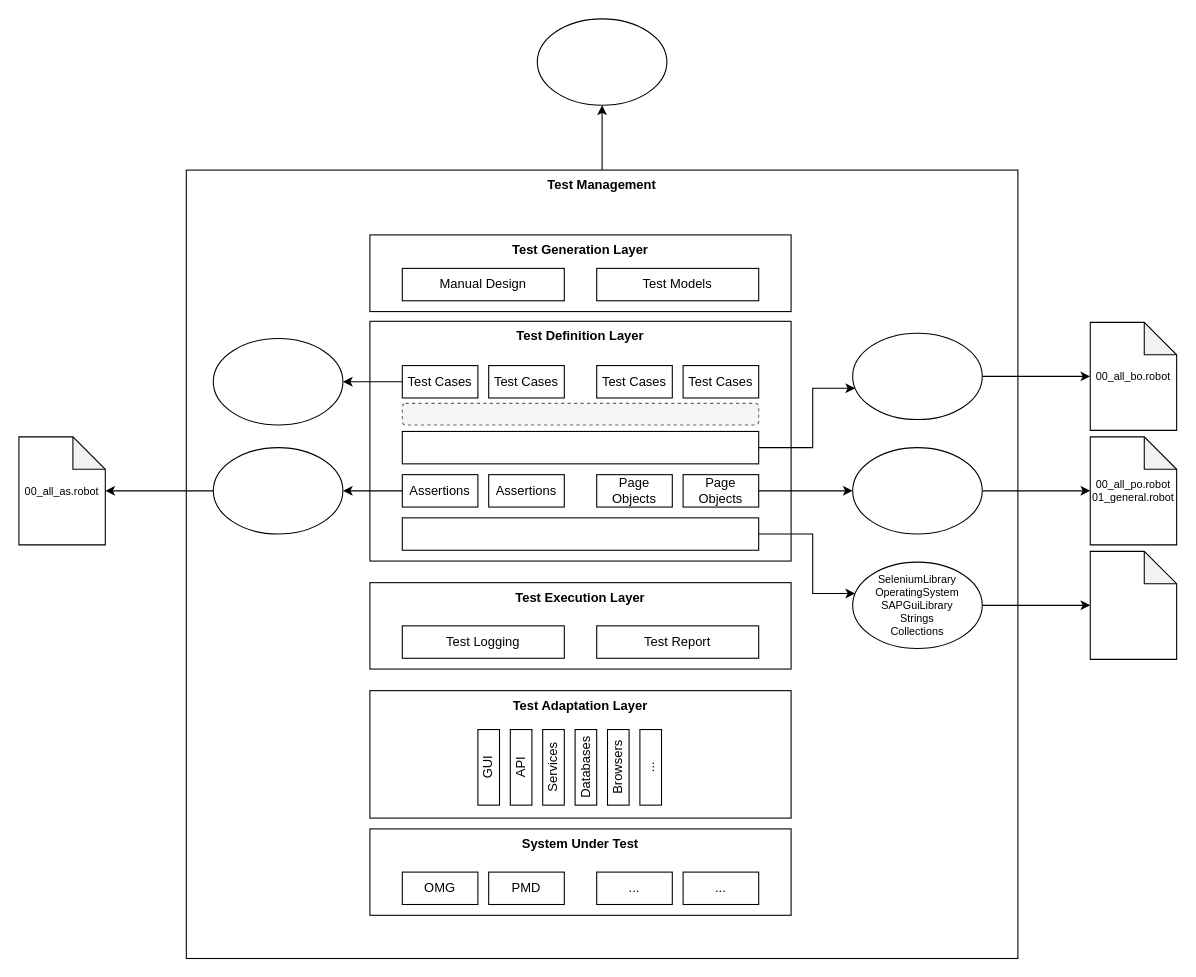
This 1196x977 diagram has some shape labels left out. Here are the shapes that lost their labels. From the top down, the centre of each, then its label:
At pixel 601 61: "qTest".
At pixel 277 381: "kaartlagen tekeningMaken importerenTekening".
At pixel 917 376: "casesBO zakelijkRechtBO werktekeningBO".
At pixel 580 413: "Wrappers".
At pixel 580 447: "Business Objects".
At pixel 277 490: "casesAS zakelijkRechtAS".
At pixel 917 490: "casesPO zakelijkRechtPO werktekeningPO".
At pixel 580 533: "Test Library".
At pixel 1133 604: "00_lirabries.robot".
